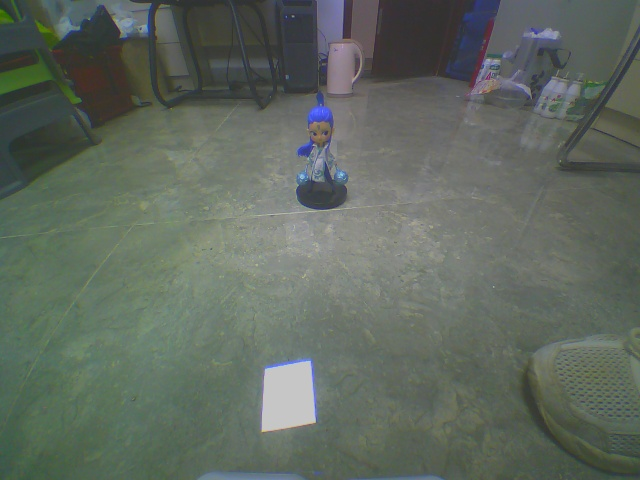Aobing: (271, 86, 373, 218)
